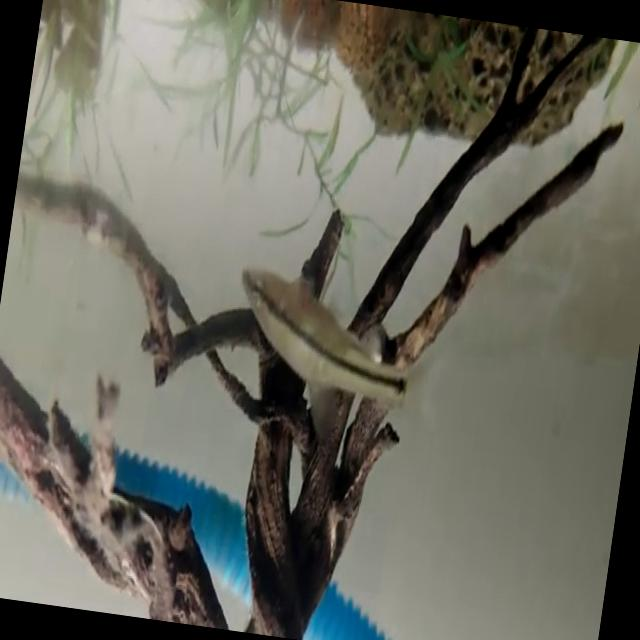Cakil Baligi: (221, 261, 431, 434)
